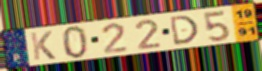0: (61, 25, 89, 60)
2: (100, 21, 130, 55), (135, 18, 163, 51)
5: (202, 9, 233, 43)
D: (168, 14, 201, 47)
K: (28, 30, 57, 61)
